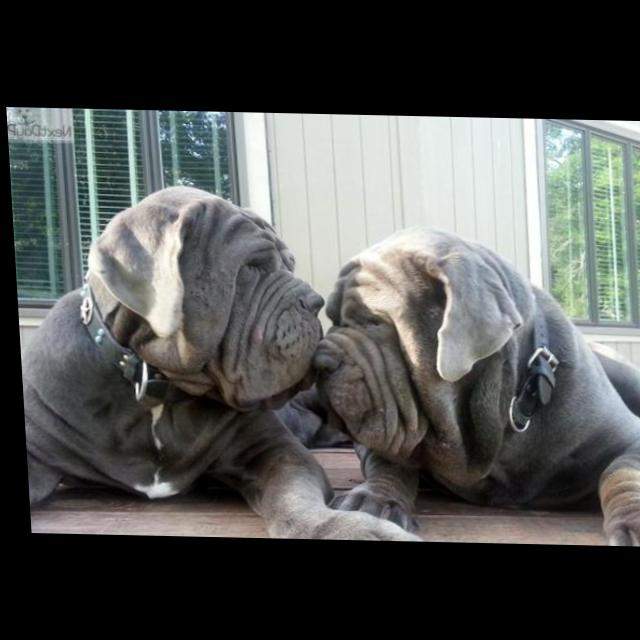mastino_napoletano: (9, 182, 426, 541), (300, 223, 640, 546)
